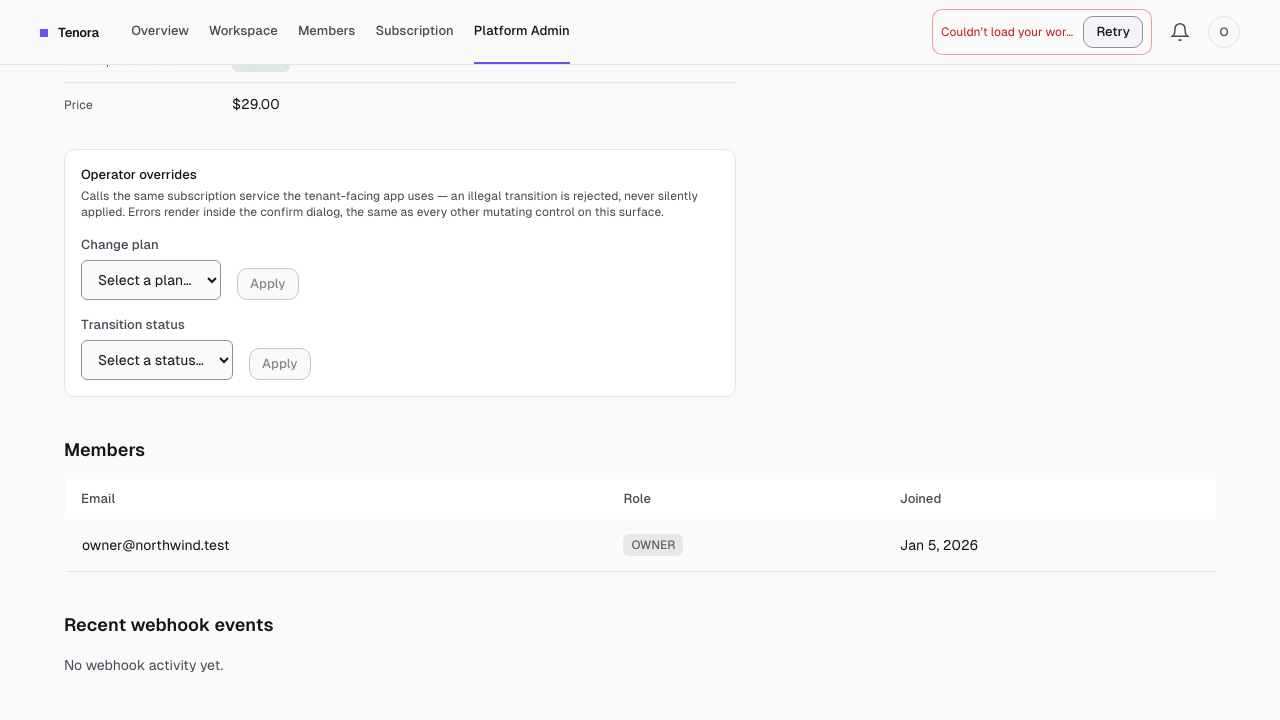
TenantDetailPage — subscription override controls (Phase 2) › a status transition follows the identical confirm-then-mutate flow
(page scrolled)
Select "PAST_DUE" in the dropdown labelled "Transition status": {"x": 157, "y": 360} x1=81 y1=340 x2=233 y2=380
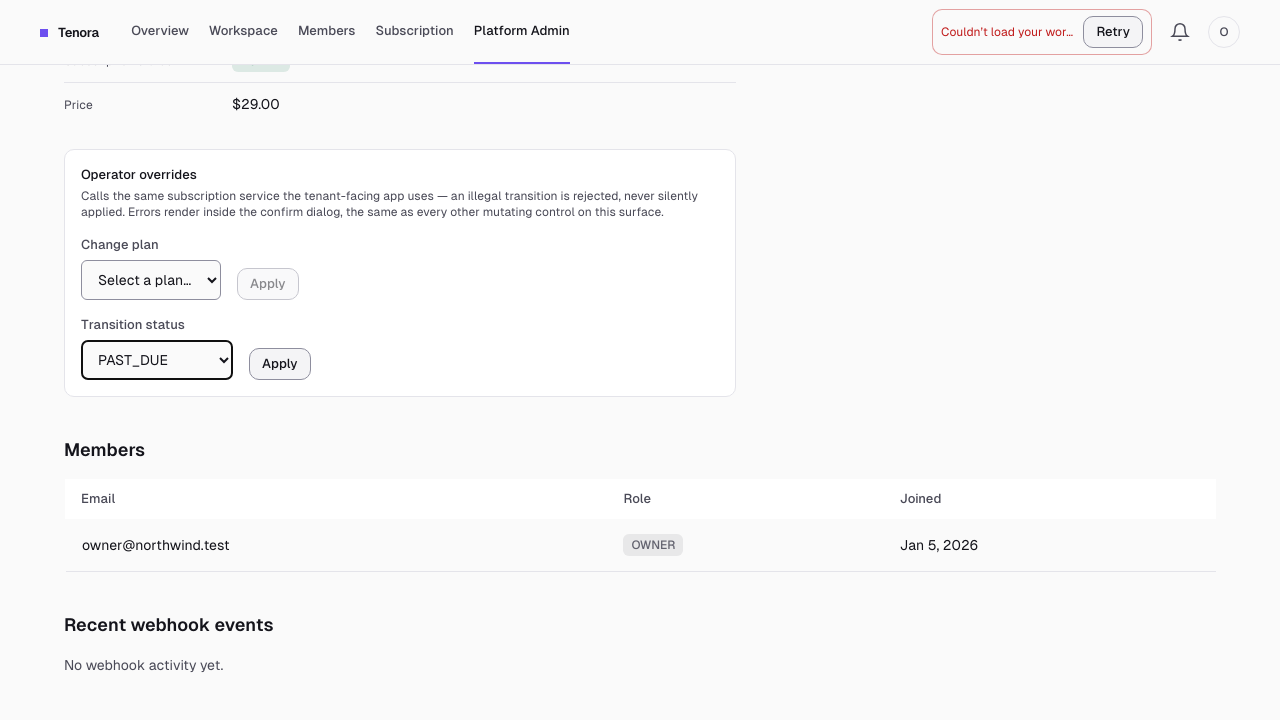
Click the button "Apply" below "Transition status": {"x": 280, "y": 364} x1=249 y1=348 x2=311 y2=380
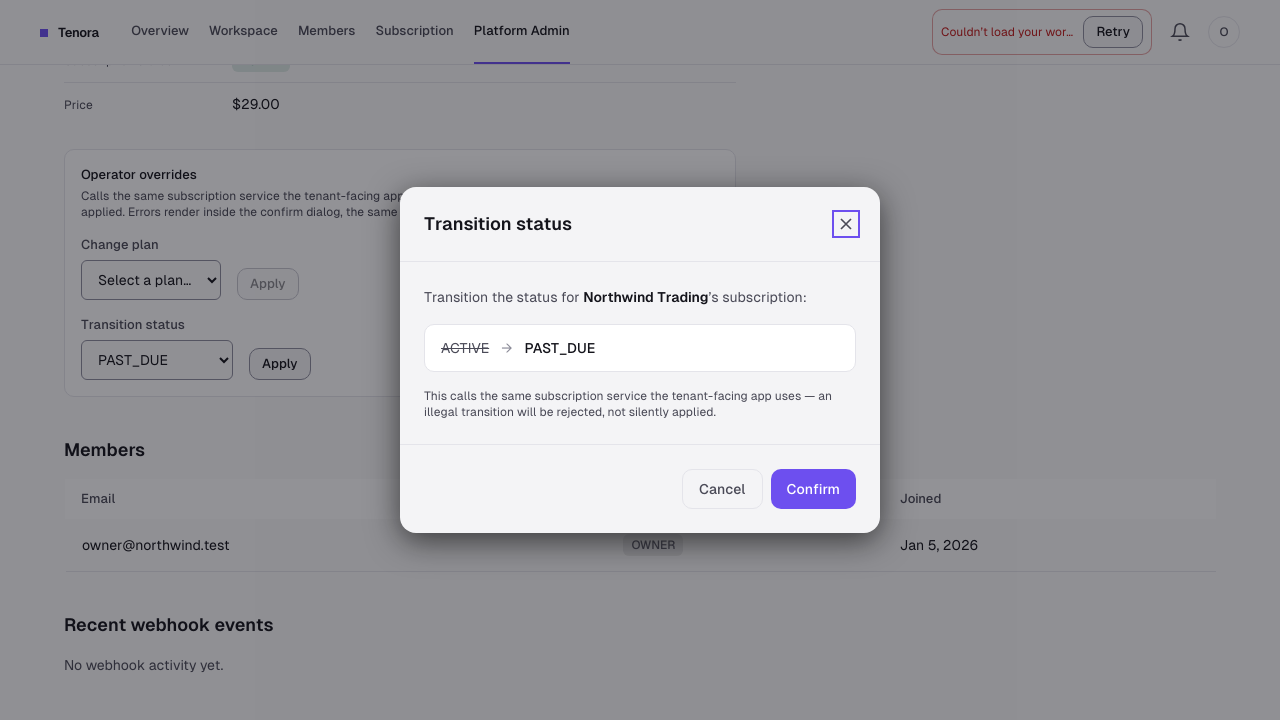
Check: the dialog "Transition status" is shown, box x1=400 y1=187 x2=880 y2=533
Click the button "Confirm": {"x": 813, "y": 489} x1=770 y1=469 x2=856 y2=509
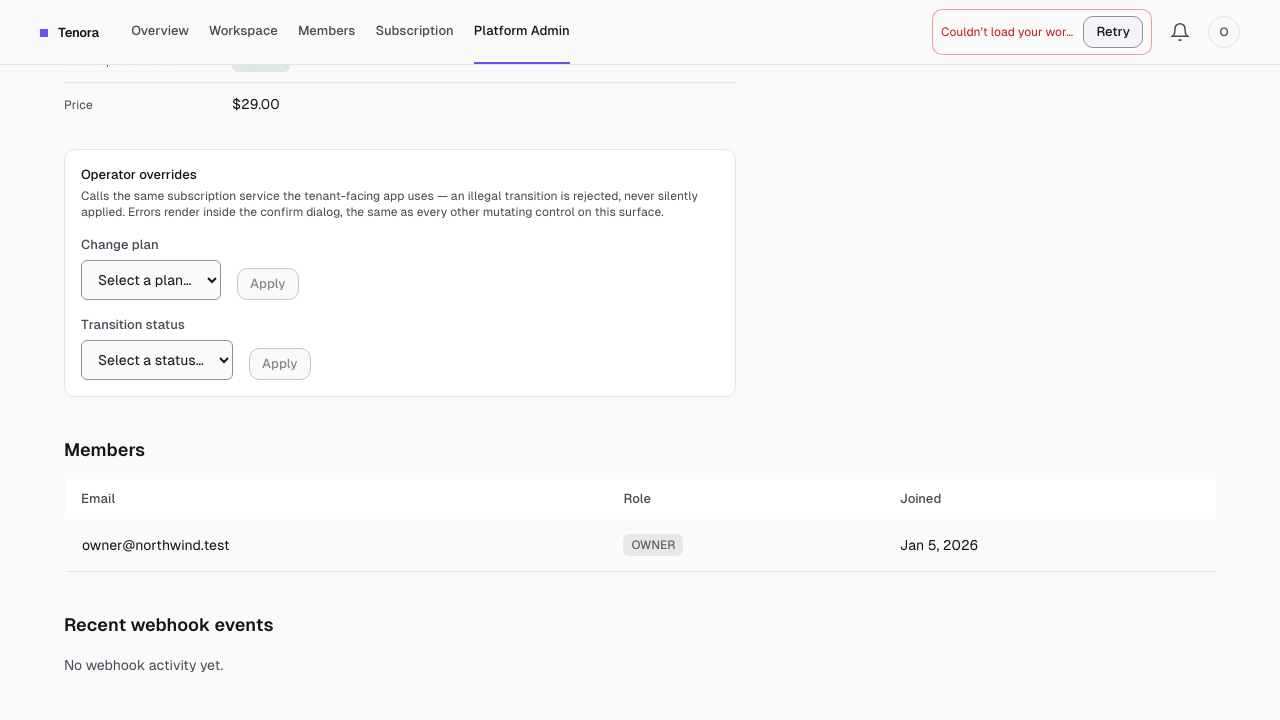
Check: the dialog is gone
